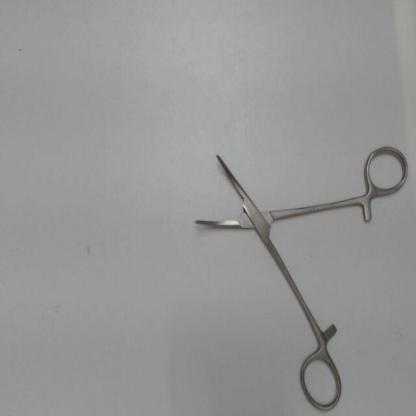Crile Artery Forceps: (188, 141, 411, 415)
